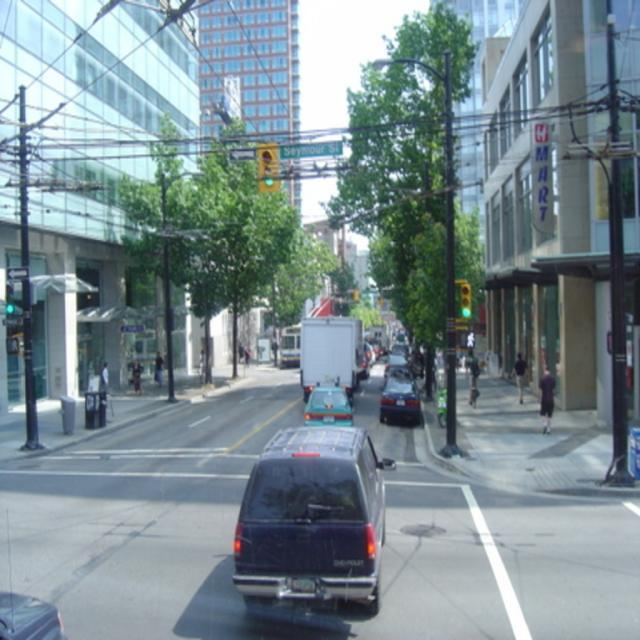traffic light: (258, 143, 280, 191), (460, 285, 471, 318)
